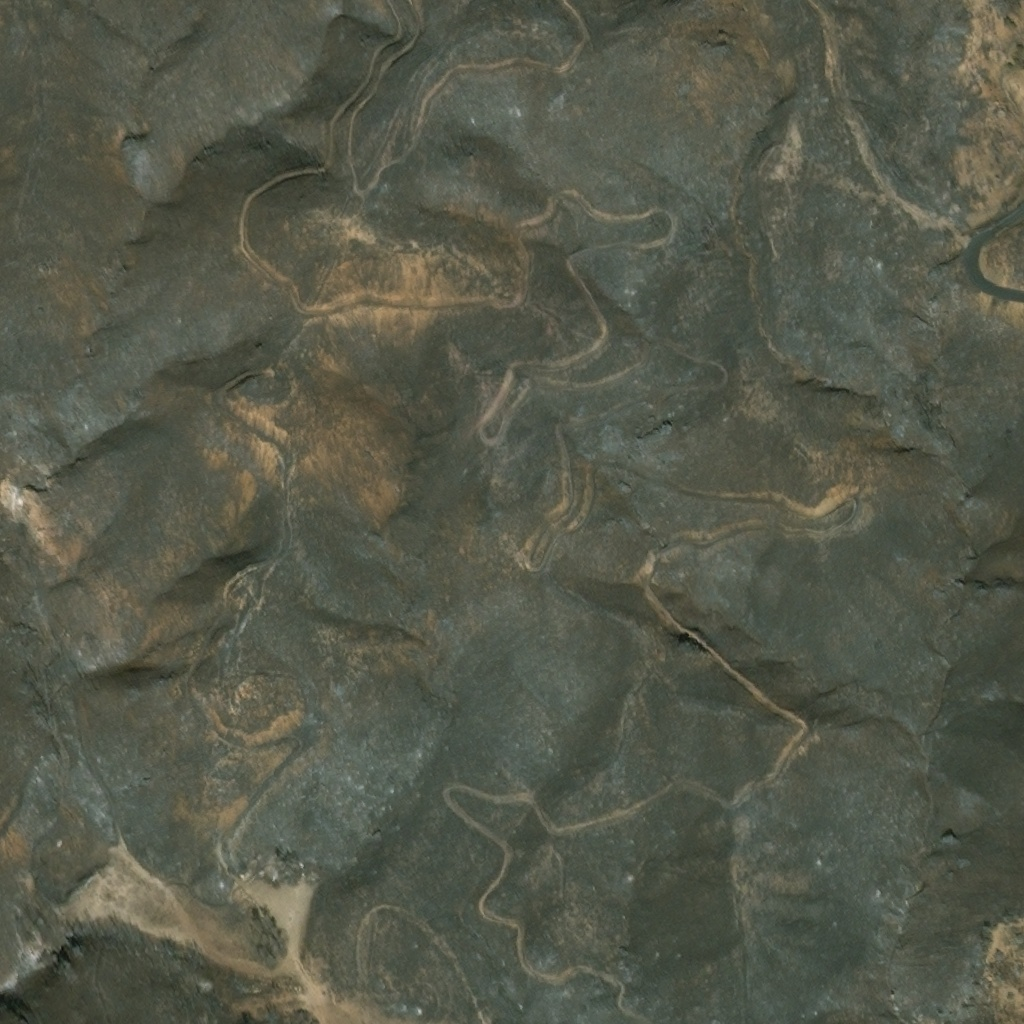4 un-classified: (5, 481, 16, 507)
